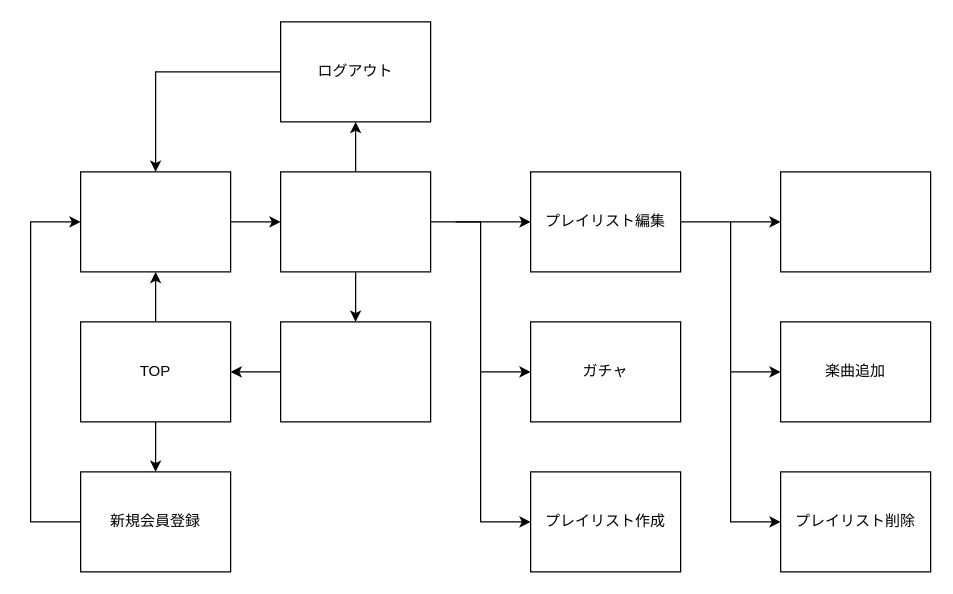
This 953x594 diagram has some shape labels left out. The shapes that lost their labels are listed below. From the top down, each one's centre as x and y in pixels, then its label:
At (155,221): "ログイン".
At (355,221): "メインメニュー".
At (855,221): "楽曲削除".
At (355,371): "退会".
